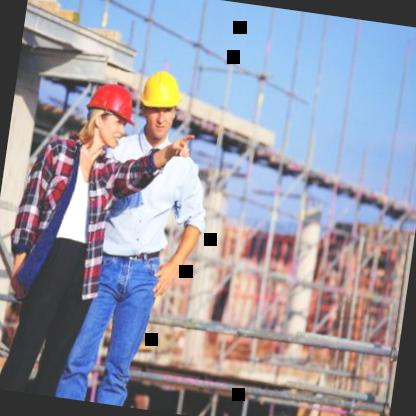helmet: (76, 75, 143, 156), (130, 60, 190, 146)
